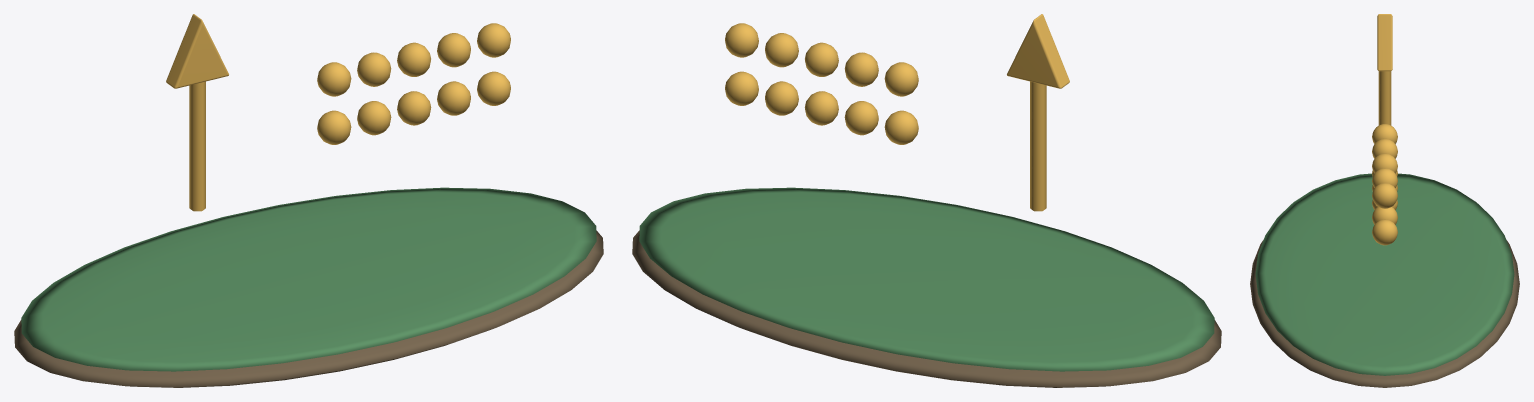
File: increasing-count.glb
3 views of the same model, side by side, from view 1: azimuth 30°, elevation 25°; view 2: azimuth 150°, elevation 25°; view 3: azimuth 270°, elevation 25° (orthographic). The views are drawn at different scales.
Visible parts, largest first — view 1: increasing-count_surface_01, increasing-count_surface_02, increasing-count_surface_00; view 2: increasing-count_surface_01, increasing-count_surface_02, increasing-count_surface_00; view 3: increasing-count_surface_01, increasing-count_surface_02, increasing-count_surface_00.
Part boxes in pixels (box(x1,y1,x2,y2)): increasing-count_surface_01: box(21, 187, 596, 371); increasing-count_surface_02: box(166, 14, 510, 211); increasing-count_surface_00: box(14, 230, 603, 387); increasing-count_surface_01: box(639, 187, 1214, 371); increasing-count_surface_02: box(725, 14, 1069, 211); increasing-count_surface_00: box(632, 230, 1221, 387); increasing-count_surface_01: box(1255, 173, 1514, 375); increasing-count_surface_02: box(1372, 14, 1397, 245); increasing-count_surface_00: box(1250, 240, 1519, 387).
Bounding box in the file's own units: 4.56 × 2.47 × 2.5.
